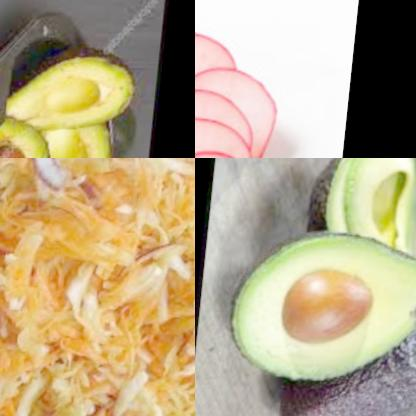avocado: (216, 234, 416, 380), (280, 311, 416, 416), (8, 37, 160, 126), (310, 158, 416, 241), (32, 102, 138, 158), (0, 103, 64, 158)
cabbage: (121, 242, 195, 323), (0, 367, 96, 416), (131, 346, 195, 416), (159, 158, 195, 215)
carrot: (0, 187, 134, 263), (0, 299, 123, 360), (88, 158, 150, 190), (23, 158, 77, 191)
rediska: (195, 26, 302, 158)
